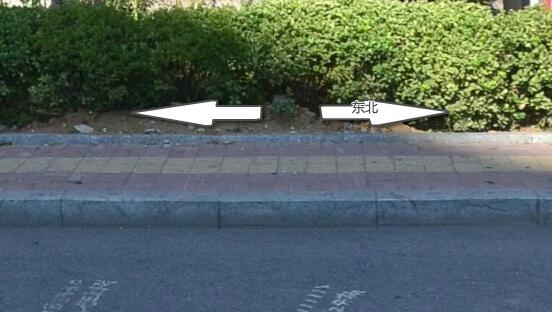side: (377, 191, 540, 228), (60, 192, 220, 226), (218, 193, 378, 227)
